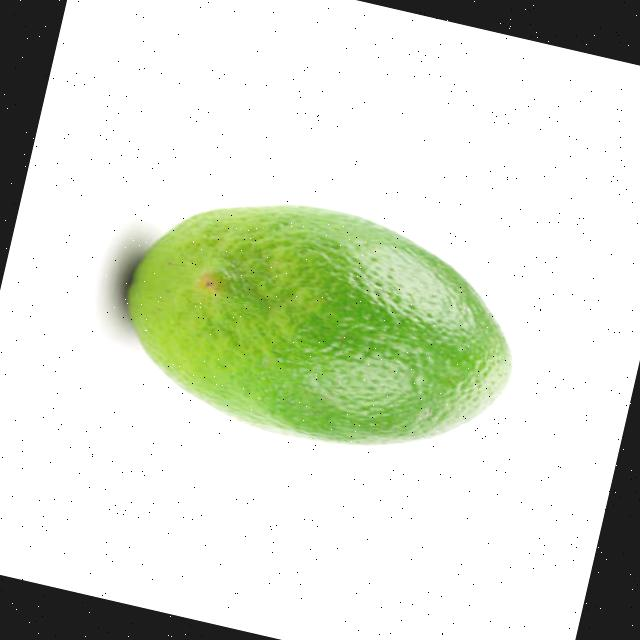Unripe: (104, 167, 541, 482)
